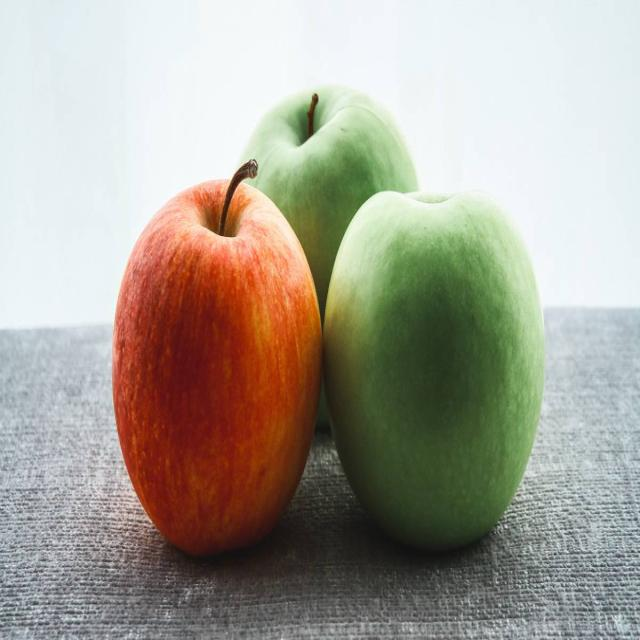manzana: (332, 176, 551, 574), (109, 175, 325, 570)
